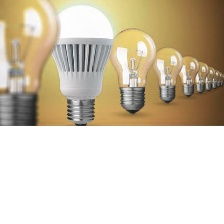light_bulb: (0, 0, 63, 141), (45, 3, 114, 131), (107, 24, 158, 118), (150, 44, 186, 105), (176, 53, 202, 99), (190, 58, 209, 94), (201, 64, 215, 92), (211, 69, 220, 90)
